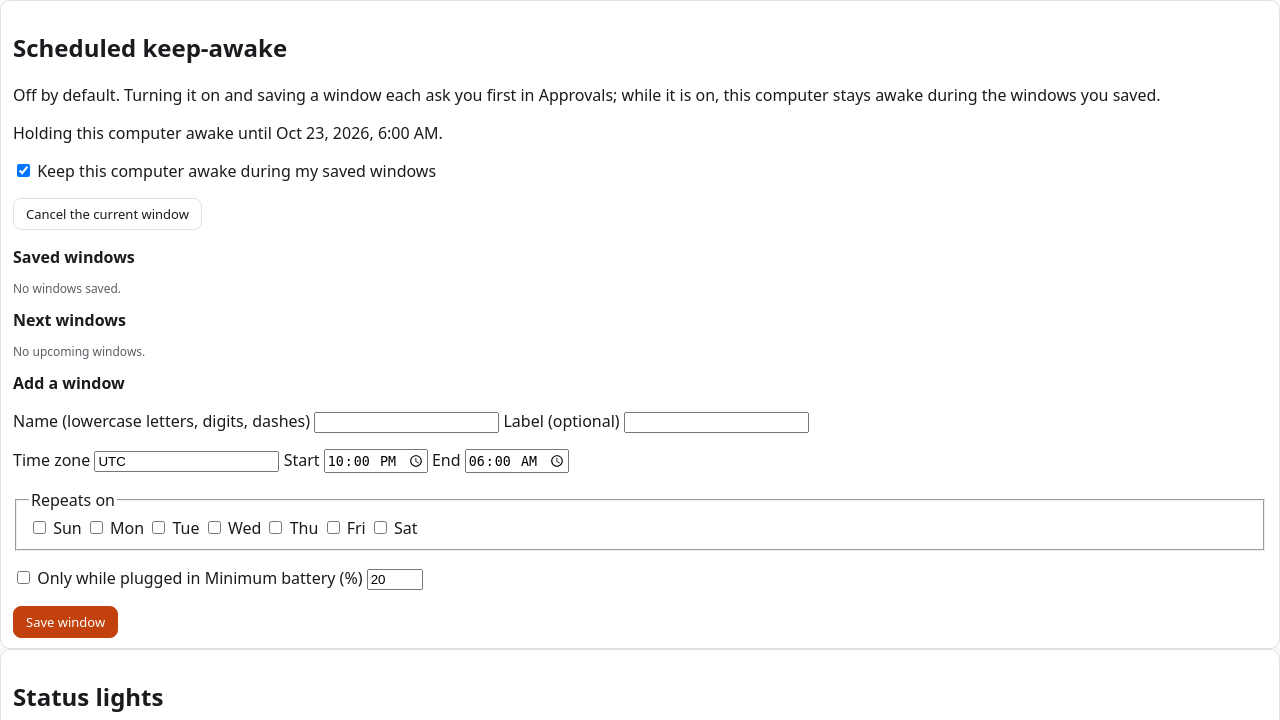
it: scheduled keep-awake › offers to cancel only while holding
This screenshot has width=1280, height=720.
Click the button "Cancel the current window" at (107, 214), box [13, 198, 202, 230]
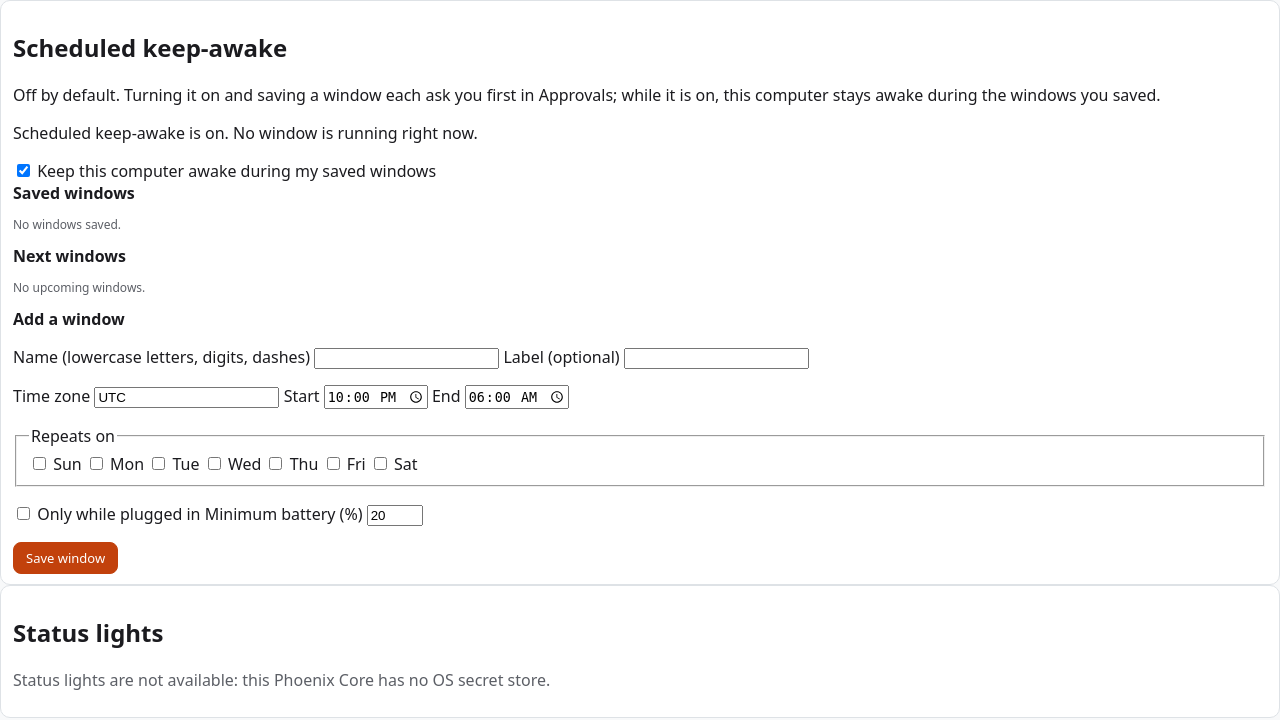
Now the button "Cancel the current window" is gone
